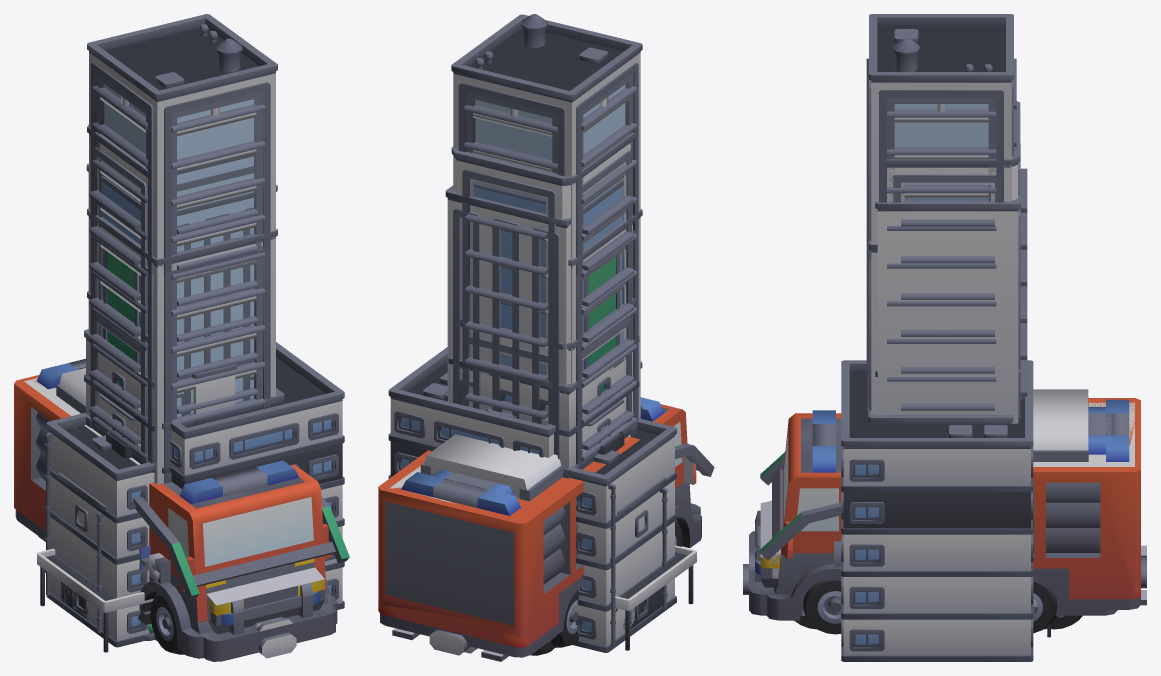
Rendered from kenney.glb.
3 renders of one model, left to right at view 1: azimuth 30°, elevation 25°; view 2: azimuth 150°, elevation 25°; view 3: azimuth 270°, elevation 25°, orthographic. The views are drawn at different scales.
Parts seen in each view (by area): view 1: com_building-skyscraper-d, car_firetruck, com_building-skyscraper-c, com_building-n, com_building-j, car_garbage-truck, com_building-skyscraper-b, com_building-skyscraper-e, com_building-k, com_building-skyscraper-a, com_building-m, car_ambulance (+1 smaller); view 2: car_firetruck, com_building-skyscraper-d, com_building-skyscraper-b, com_building-skyscraper-e, com_building-j, com_building-n, car_ambulance, com_building-m, com_building-k, com_building-skyscraper-a, com_building-skyscraper-c, car_garbage-truck; view 3: com_building-n, car_firetruck, com_building-skyscraper-d, com_building-skyscraper-e, com_building-skyscraper-b, car_ambulance, car_garbage-truck, com_building-skyscraper-c, com_building-skyscraper-a, com_building-l.
Boxes of the visible parts, x1,y1,x2,y2 form: com_building-skyscraper-d: (87,14,277,484); car_firetruck: (14,359,337,657); com_building-skyscraper-c: (87,208,277,633); com_building-n: (37,342,344,652); com_building-j: (45,412,154,647); car_garbage-truck: (91,428,349,661); com_building-skyscraper-b: (87,124,257,453); com_building-skyscraper-e: (86,163,277,420); com_building-k: (58,472,107,637); com_building-skyscraper-a: (87,290,257,453); com_building-m: (84,329,254,472); car_ambulance: (24,367,282,626); car_firetruck: (378,397,701,657); com_building-skyscraper-d: (451,14,642,466); com_building-skyscraper-b: (451,132,636,468); com_building-skyscraper-e: (445,180,623,468); com_building-j: (565,418,676,652); com_building-n: (388,347,696,650); car_ambulance: (389,434,630,655); com_building-m: (448,336,639,478); com_building-k: (615,477,667,636); com_building-skyscraper-a: (459,298,636,464); com_building-skyscraper-c: (542,209,642,465); car_garbage-truck: (392,432,714,661); com_building-n: (841,360,1054,661); car_firetruck: (749,397,1146,634); com_building-skyscraper-d: (866,14,1016,415); com_building-skyscraper-e: (875,144,1020,423); com_building-skyscraper-b: (868,101,1027,406); car_ambulance: (772,389,1134,629); car_garbage-truck: (743,452,1146,629); com_building-skyscraper-c: (866,240,996,415); com_building-skyscraper-a: (868,323,1027,410); com_building-l: (868,396,1024,425).
Bounding box in the file's own units: 2.32 × 5.52 × 3.45.
